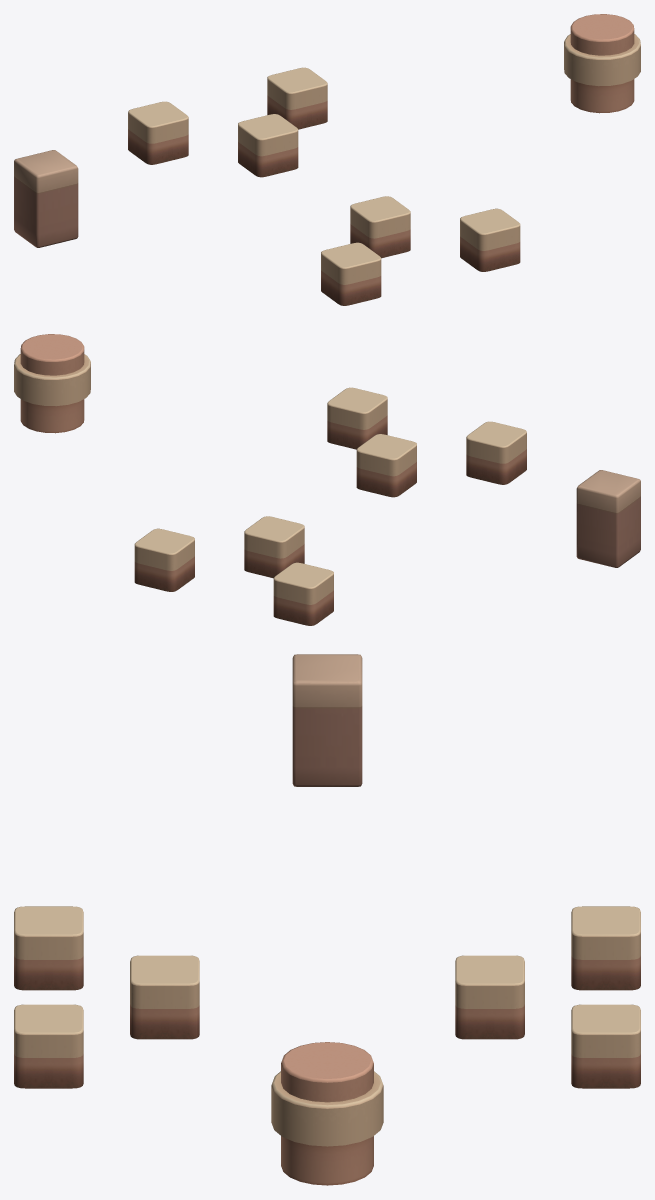
Rendered from Props.fbx.
The picture shows the model from 3 angles, top to bottom: view 1: azimuth 30°, elevation 25°; view 2: azimuth 150°, elevation 25°; view 3: azimuth 270°, elevation 25°; orthographic projection. The views are drawn at different scales.
Parts seen in each view (by area): view 1: Cylinder, Box03, Box01 (2), Box01 (1), Box01 (5), Box01, Box01 (3), Box01 (4); view 2: Cylinder, Box03, Box01, Box01 (4), Box01 (3), Box01 (2), Box01 (1), Box01 (5); view 3: Cylinder, Box03, Box01, Box01 (1), Box01 (4), Box01 (2), Box01 (3), Box01 (5).
Part boxes in pixels (x1=…): Cylinder: x1=564, y1=14, x2=640, y2=113; Box03: x1=14, y1=150, x2=78, y2=247; Box01 (2): x1=128, y1=101, x2=188, y2=164; Box01 (1): x1=460, y1=208, x2=520, y2=271; Box01 (5): x1=238, y1=114, x2=298, y2=177; Box01: x1=321, y1=242, x2=381, y2=305; Box01 (3): x1=267, y1=67, x2=327, y2=129; Box01 (4): x1=350, y1=196, x2=410, y2=258; Cylinder: x1=14, y1=334, x2=90, y2=433; Box03: x1=576, y1=470, x2=640, y2=567; Box01: x1=466, y1=421, x2=526, y2=484; Box01 (4): x1=356, y1=434, x2=416, y2=497; Box01 (3): x1=134, y1=528, x2=194, y2=591; Box01 (2): x1=273, y1=562, x2=333, y2=625; Box01 (1): x1=327, y1=387, x2=387, y2=449; Box01 (5): x1=244, y1=516, x2=304, y2=578; Cylinder: x1=271, y1=1042, x2=383, y2=1185; Box03: x1=292, y1=654, x2=362, y2=786; Box01: x1=14, y1=906, x2=83, y2=990; Box01 (1): x1=14, y1=1004, x2=83, y2=1088; Box01 (4): x1=130, y1=955, x2=199, y2=1039; Box01 (2): x1=571, y1=906, x2=640, y2=990; Box01 (3): x1=571, y1=1004, x2=640, y2=1088; Box01 (5): x1=455, y1=955, x2=524, y2=1039.
Size of the model in its own units: 43.91 by 7.62 by 27.
